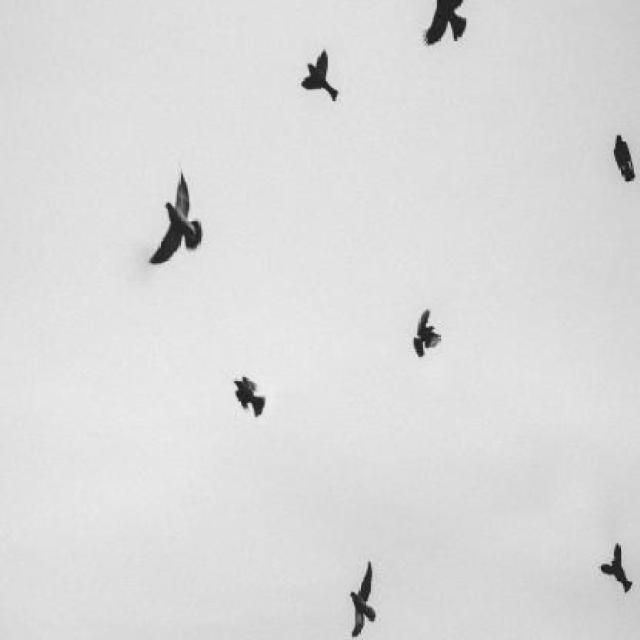bird: (148, 164, 202, 265), (301, 48, 339, 101), (424, 0, 467, 46), (351, 560, 375, 638), (599, 542, 633, 593), (232, 376, 266, 418), (414, 309, 441, 357), (613, 135, 636, 182)
